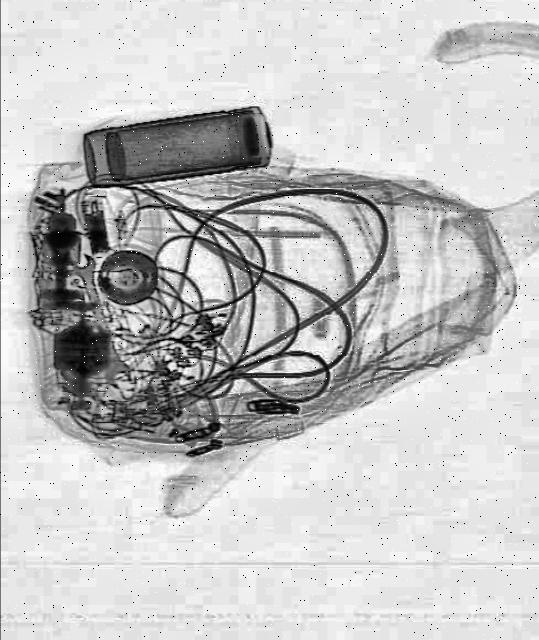Wrench: (68, 253, 137, 392)
